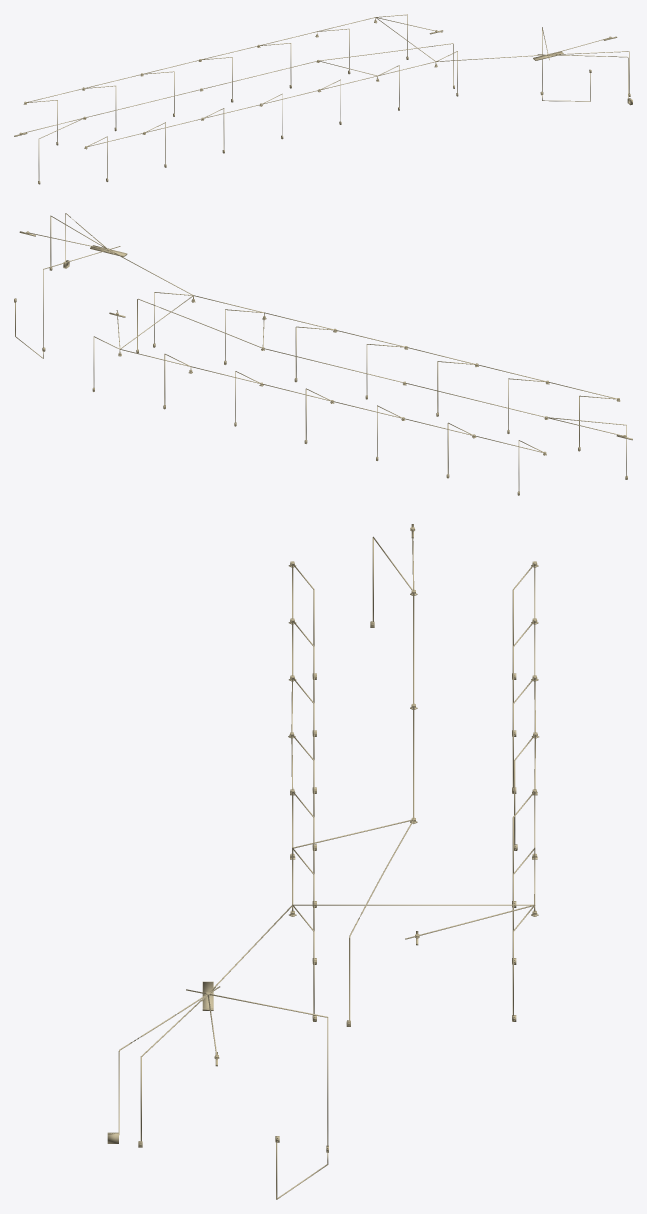
Rendered from ELETRICO.glb.
The picture shows the model from 3 angles, top to bottom: view 1: azimuth 30°, elevation 25°; view 2: azimuth 150°, elevation 25°; view 3: azimuth 270°, elevation 25°; orthographic projection. The views are drawn at different scales.
Visible parts, largest first — view 1: IFCFLOWSEGMENT, IFCFLOWTERMINAL; view 2: IFCFLOWSEGMENT, IFCFLOWTERMINAL; view 3: IFCFLOWSEGMENT, IFCFLOWTERMINAL.
Boxes of the visible parts, <box> form: IFCFLOWSEGMENT: <box>22,14,629,180</box>; IFCFLOWTERMINAL: <box>14,20,617,149</box>; IFCFLOWSEGMENT: <box>15,213,626,491</box>; IFCFLOWTERMINAL: <box>19,231,632,455</box>; IFCFLOWSEGMENT: <box>118,529,535,1199</box>; IFCFLOWTERMINAL: <box>202,524,539,1066</box>.
Size of the model in its own units: 23.25 by 2.99 by 7.85.
